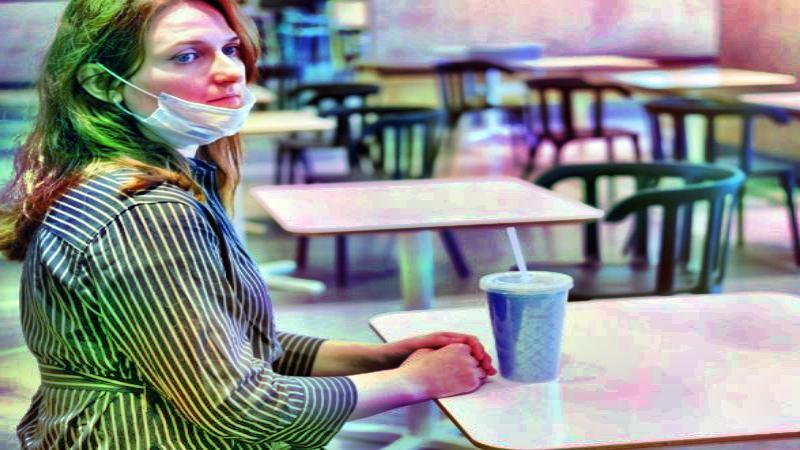mask_weared_incorrect: (46, 1, 254, 148)
